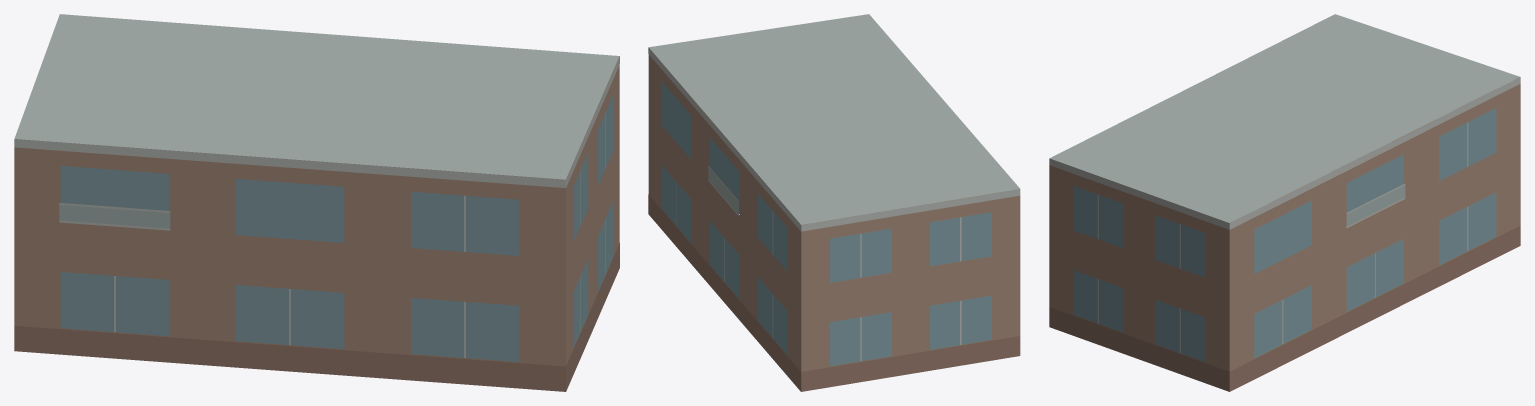
File: survey-upis-32708749.glb
The picture shows the model from 3 angles, left to right: view 1: azimuth 30°, elevation 25°; view 2: azimuth 150°, elevation 25°; view 3: azimuth 270°, elevation 25°; orthographic projection. The views are drawn at different scales.
Parts seen in each view (by area): view 1: survey-upis-32708749.tmp; view 2: survey-upis-32708749.tmp; view 3: survey-upis-32708749.tmp.
Part boxes in pixels (x1,y1,x2,y2): survey-upis-32708749.tmp: (14, 14, 619, 391); survey-upis-32708749.tmp: (648, 14, 1020, 391); survey-upis-32708749.tmp: (1049, 14, 1520, 391).
Size of the model in its own units: 16.22 by 6.1 by 15.45.
